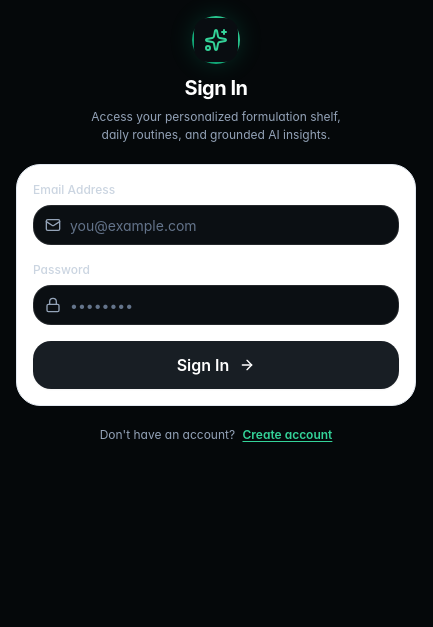
Scenario: Auth UI Components & ProtectedRoute Guard › LoginPage › displays calm error panel on unexpected network failure
In the field labelled "Email Address": [216, 225] box [33, 205, 399, 245], type "test@example.com"
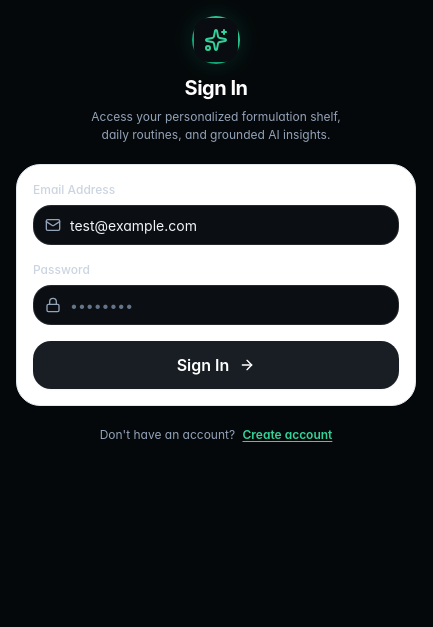
In the password field labelled "Password": [216, 305] box [33, 285, 399, 325], type "ValidPass123!"
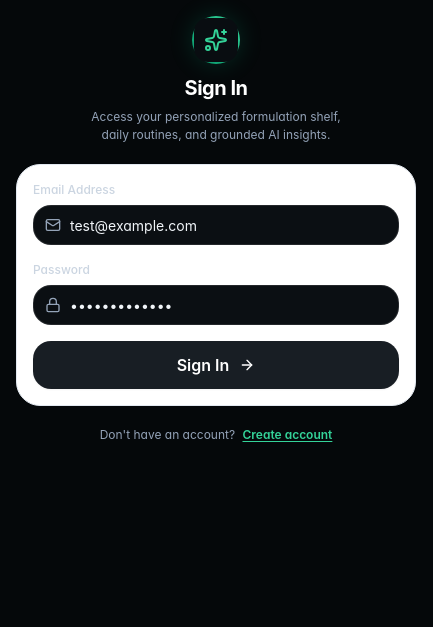
Click the button "Sign In": [216, 365] box [33, 341, 399, 389]
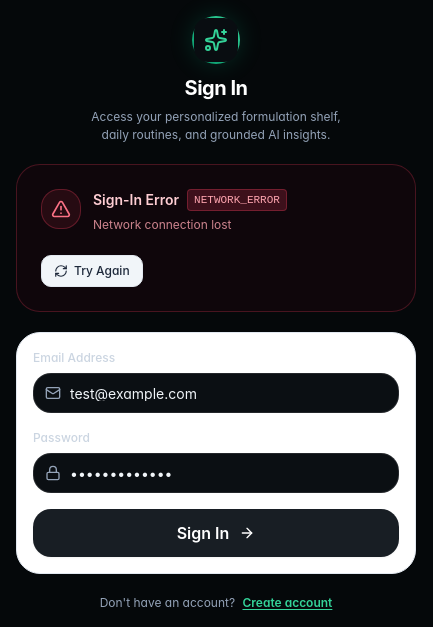
Expected: the heading "Sign-In Error" is shown, [93, 190, 179, 210]
Expected: the text "Network connection lost" is shown, [93, 217, 232, 232]
